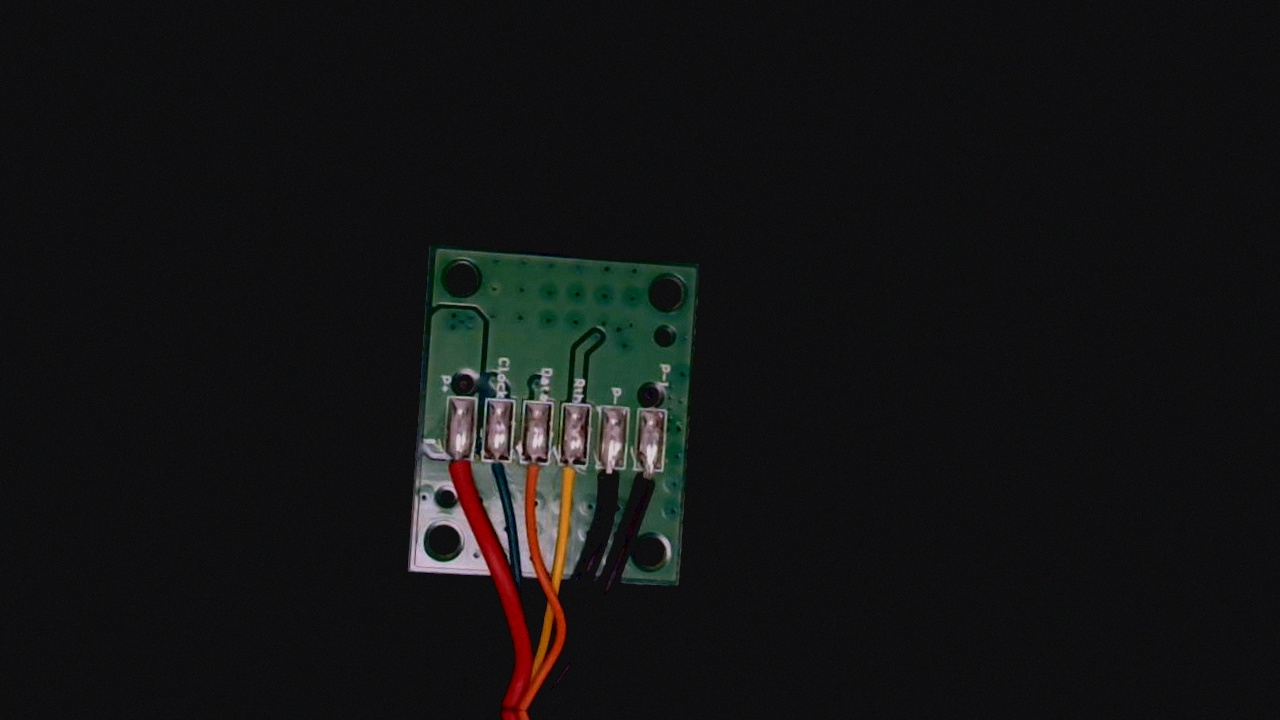Black: (588, 450, 629, 526)
Black1: (631, 452, 670, 522)
Green: (478, 439, 513, 501)
Orange: (515, 442, 553, 511)
Red: (439, 439, 479, 512)
Yellow: (550, 448, 591, 525)
